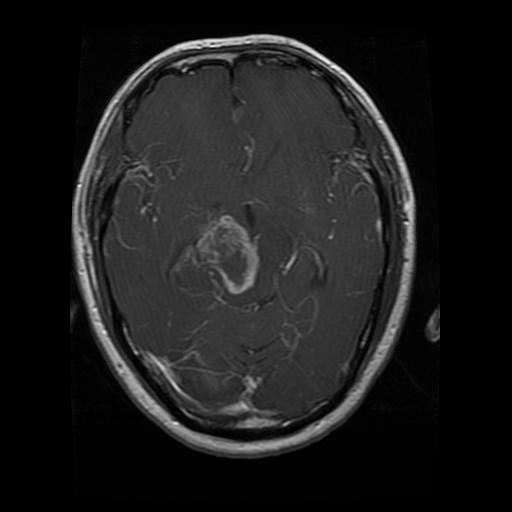Tumour-Glioma: (190, 209, 268, 297)
